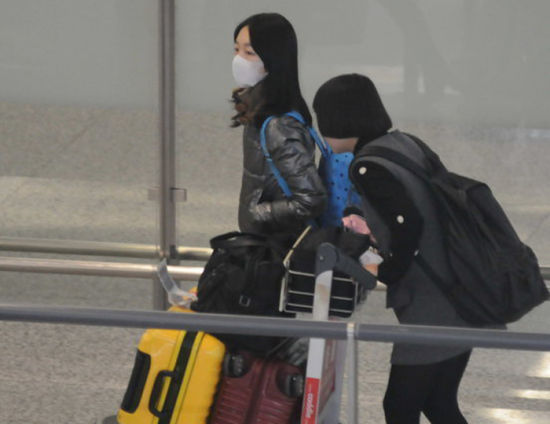face_mask: (232, 27, 263, 86)
